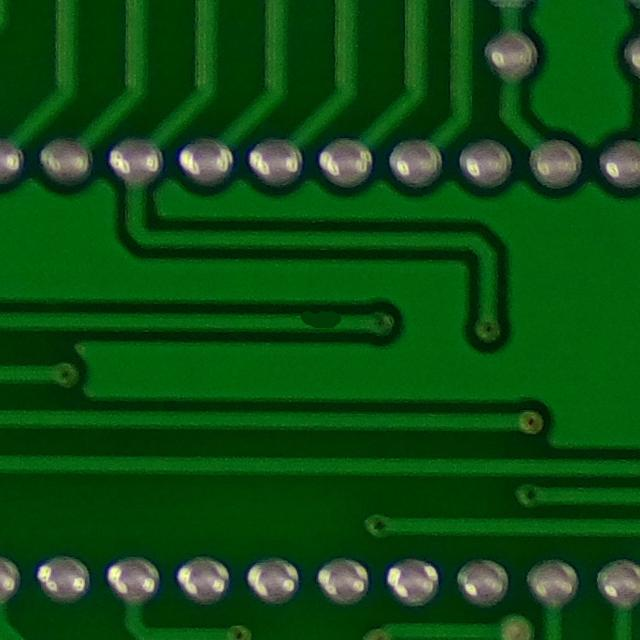mouse_bite: (288, 301, 352, 339)
